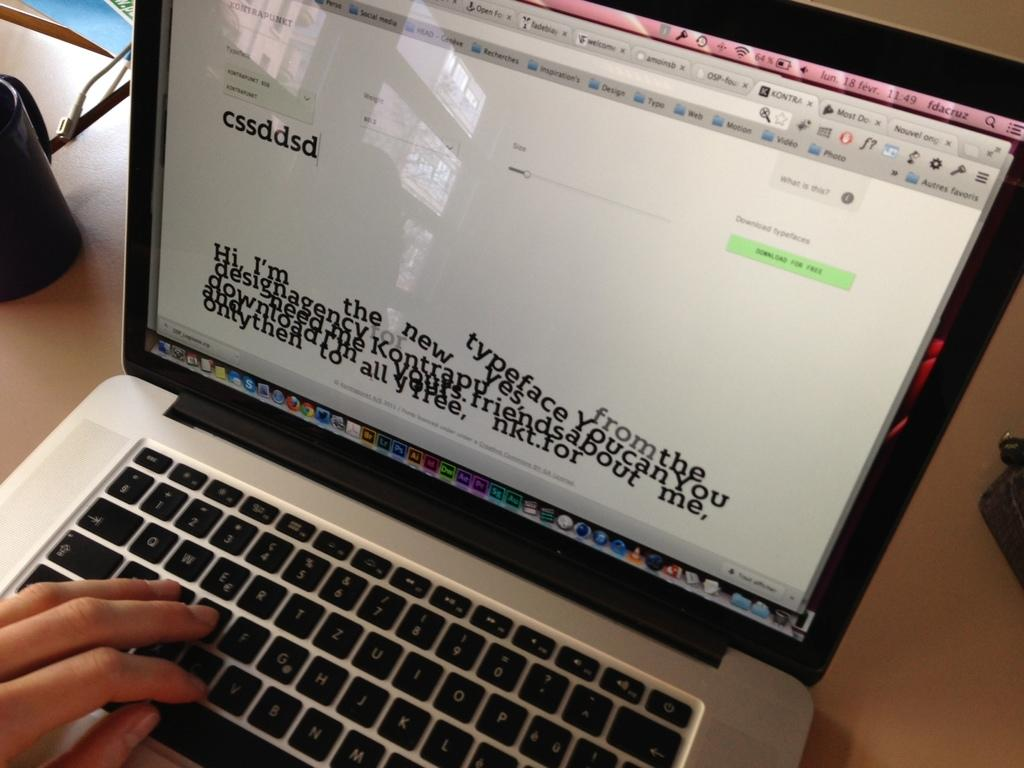Computer-keyboard: (3, 443, 698, 767)
